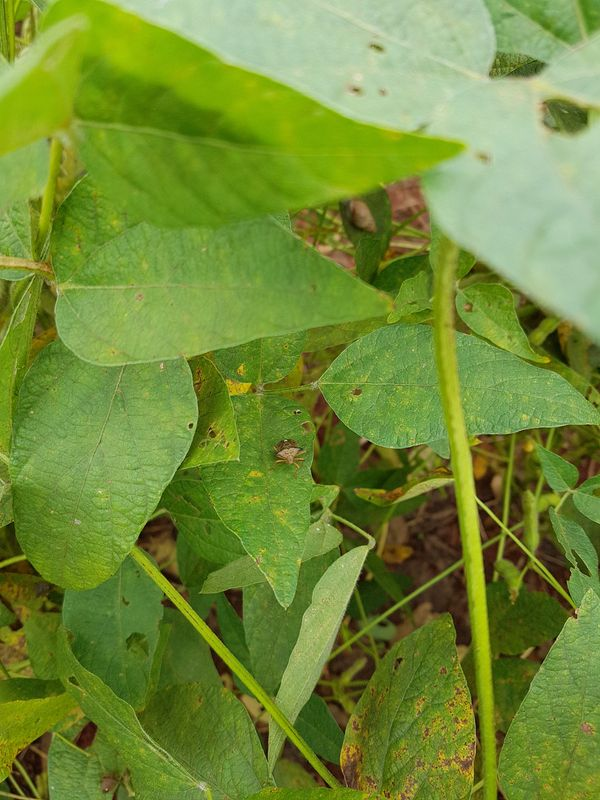Euschistus_heros_adulto: (266, 433, 312, 476), (94, 768, 120, 798)
Gastropoda: (338, 193, 384, 237)
